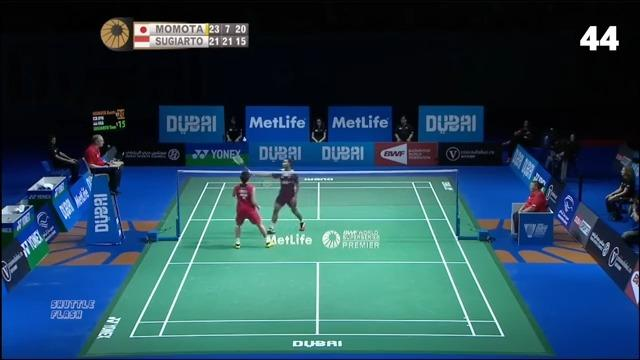Shuttlecock: (239, 136, 249, 146)
